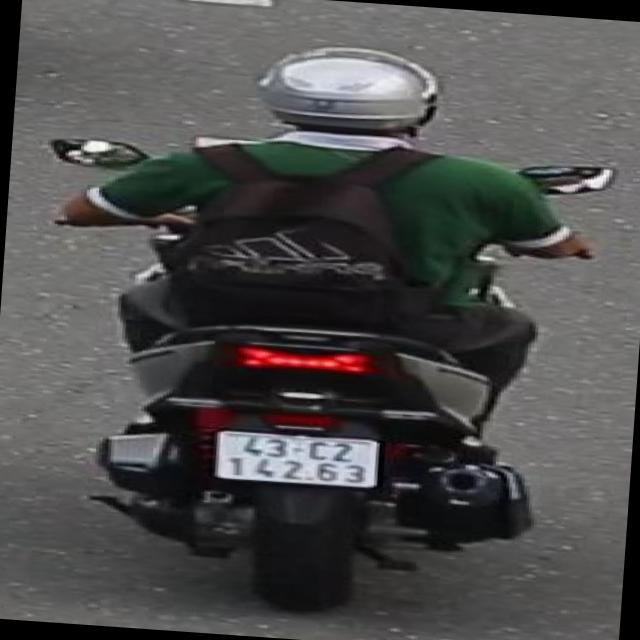LP: (206, 426, 387, 497)
helmet: (254, 35, 451, 160)
